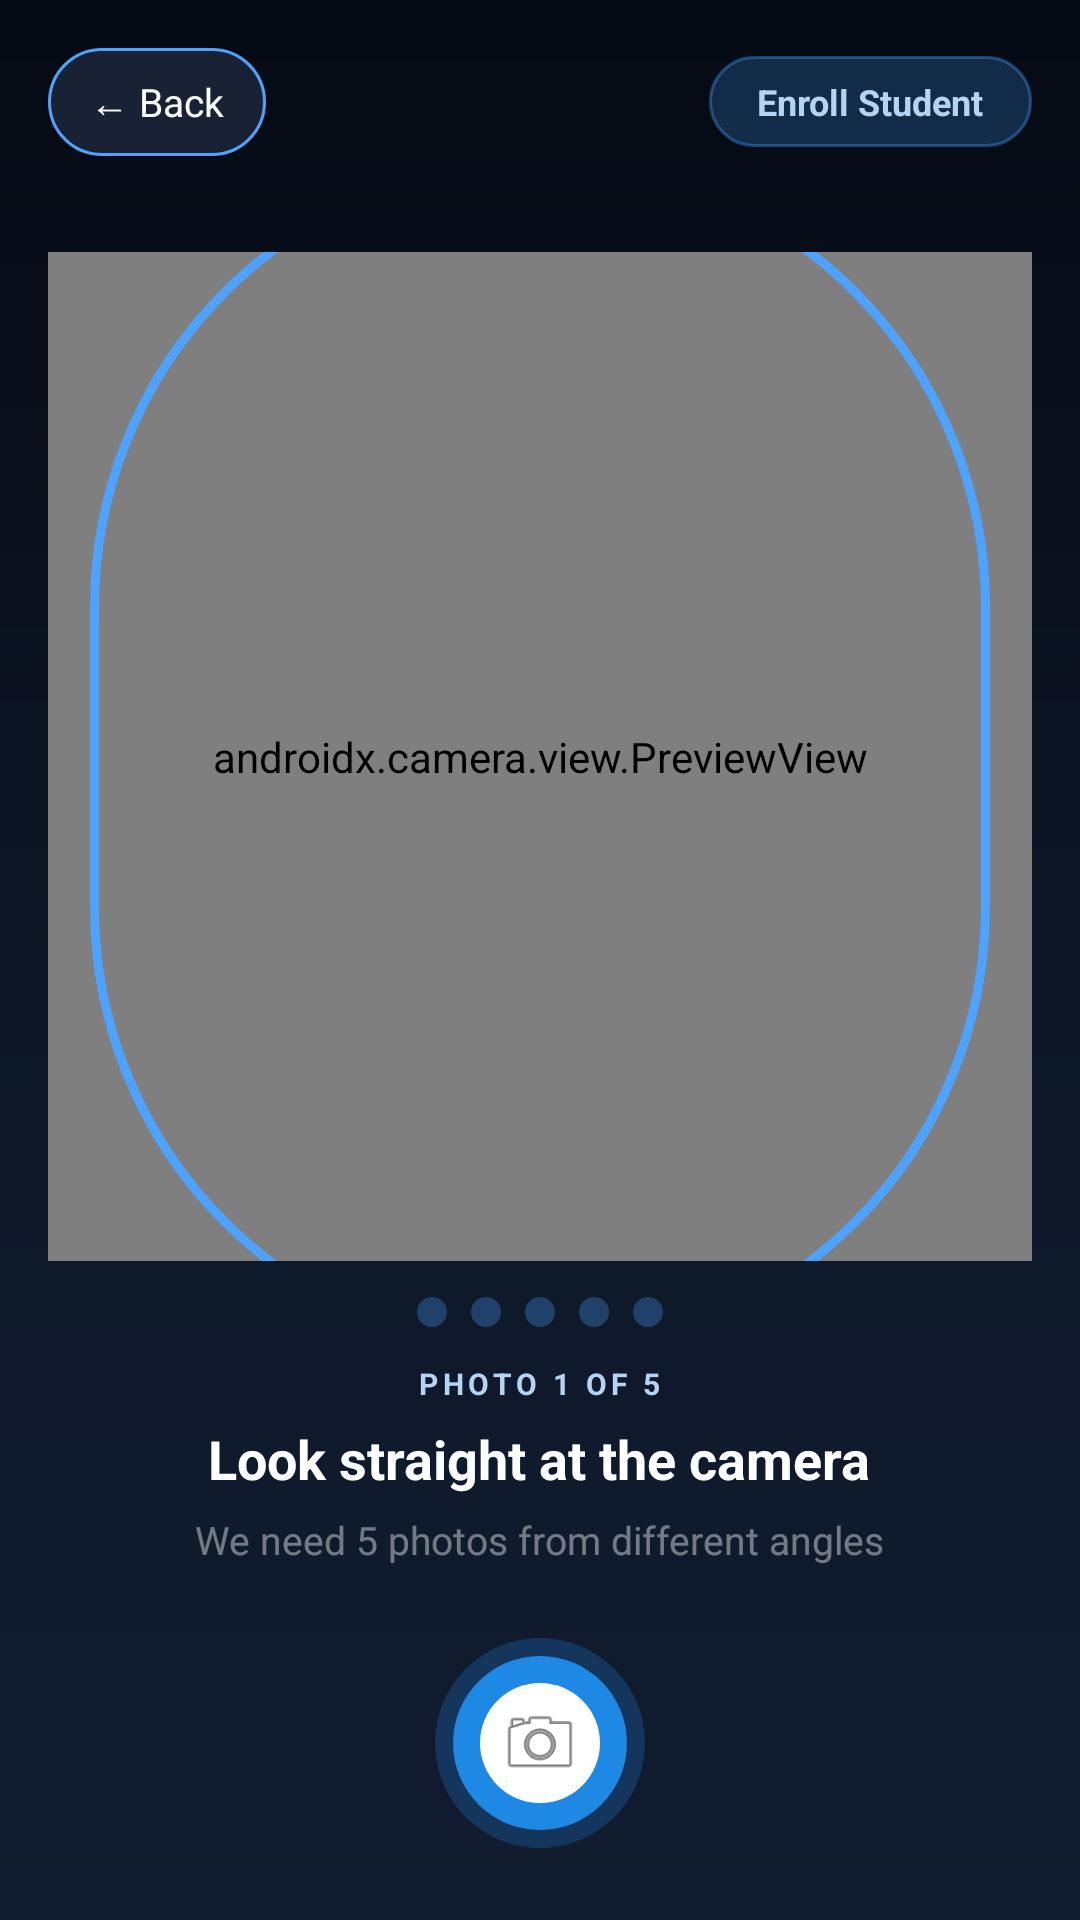

Point at icon controls on the screen. Image size 1080 x 1920, points as (x,y).
Capture photo: (540,1742)
